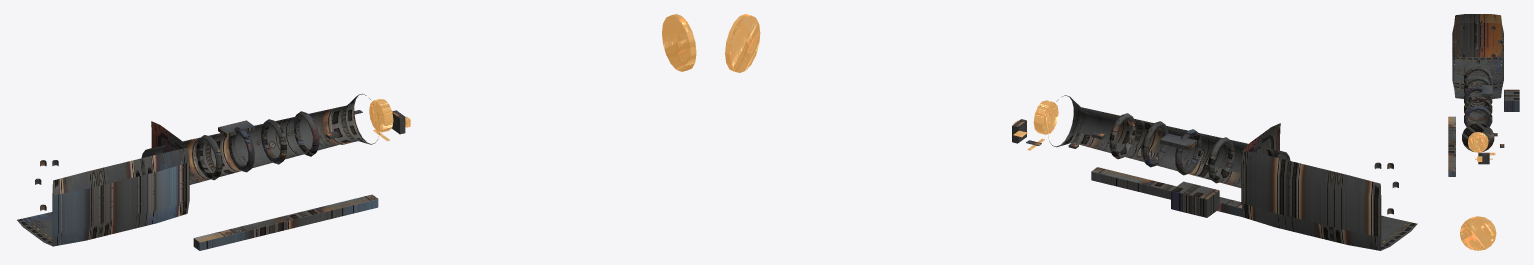
The model's file is weapon_gatling.glb.
3 views of the same model, side by side, from view 1: azimuth 30°, elevation 25°; view 2: azimuth 150°, elevation 25°; view 3: azimuth 270°, elevation 25° (orthographic). The views are drawn at different scales.
Visible parts, largest first — view 1: Gatling_Housing, Gatling_Barrel_Cluster, DET_mount_rail, Gatling_Coils_Merged, DET_heat_disc, Gatling_Muzzle; view 2: Gatling_Housing, Gatling_Barrel_Cluster, Gatling_Coils_Merged, DET_mount_rail, DET_heat_disc, DET_ammo_feed, Gatling_Muzzle, DET_scuff_plate; view 3: Gatling_Housing, Gatling_Coils_Merged, DET_heat_disc, Gatling_Barrel_Cluster, DET_mount_rail, DET_ammo_feed, Gatling_Muzzle, weapon_gatling_Material_Mechanical_Merged, DET_barrel_wear_band, DET_scuff_plate.
Part boxes in pixels (<box>): Gatling_Housing: <box>17,121,189,246</box>; Gatling_Barrel_Cluster: <box>141,93,379,184</box>; DET_mount_rail: <box>193,194,378,250</box>; Gatling_Coils_Merged: <box>189,111,319,180</box>; DET_heat_disc: <box>662,14,696,71</box>; Gatling_Muzzle: <box>369,99,393,132</box>; Gatling_Housing: <box>1241,123,1417,250</box>; Gatling_Barrel_Cluster: <box>1049,95,1290,187</box>; Gatling_Coils_Merged: <box>1109,113,1241,183</box>; DET_mount_rail: <box>1091,167,1243,217</box>; DET_heat_disc: <box>725,14,760,72</box>; DET_ammo_feed: <box>1171,181,1219,217</box>; Gatling_Muzzle: <box>1033,100,1058,134</box>; DET_scuff_plate: <box>1160,133,1197,150</box>; Gatling_Housing: <box>1452,14,1503,98</box>; Gatling_Coils_Merged: <box>1464,66,1492,125</box>; DET_heat_disc: <box>1460,216,1496,250</box>; Gatling_Barrel_Cluster: <box>1462,59,1494,152</box>; DET_mount_rail: <box>1448,116,1455,176</box>; DET_ammo_feed: <box>1504,89,1519,111</box>; Gatling_Muzzle: <box>1468,132,1488,152</box>; weapon_gatling_Material_Mechanical_Merged: <box>1454,20,1501,63</box>; DET_barrel_wear_band: <box>1478,152,1489,164</box>; DET_scuff_plate: <box>1482,85,1492,96</box>.
Bounding box in the file's own units: 9.1 × 1.41 × 1.38.
Materials: 3 (3 with a texture image).
